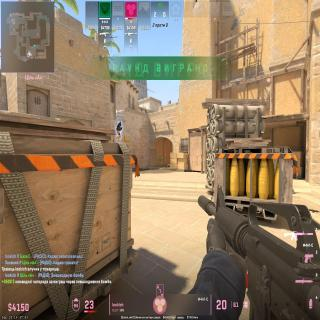CT-Body: (116, 122, 122, 132)
CT-Head: (120, 122, 122, 126)
